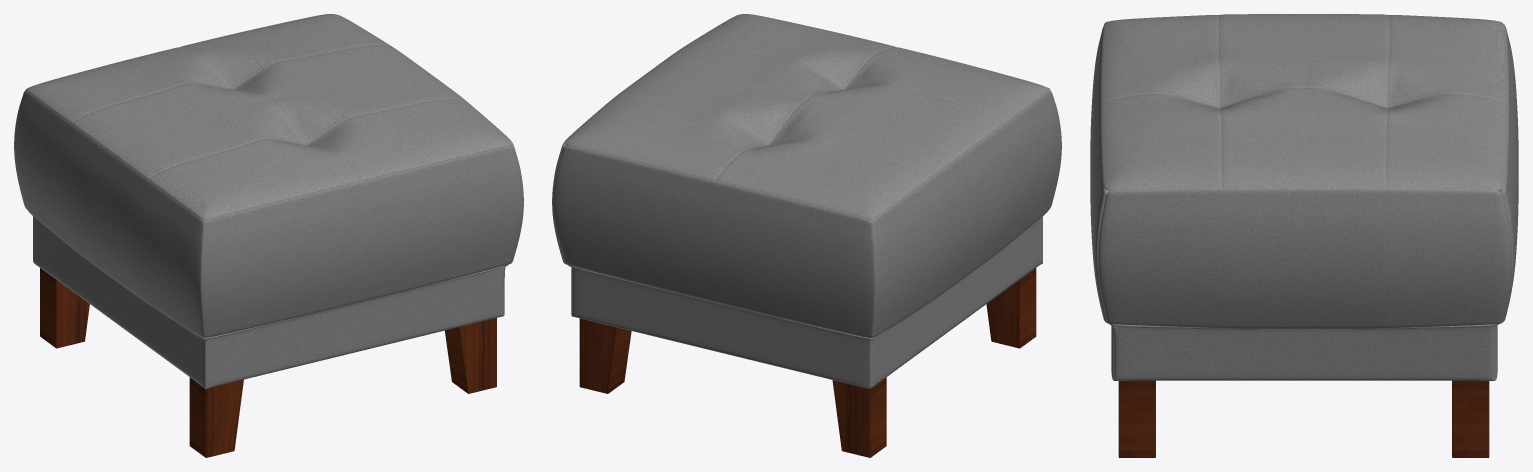
File: Tapicerk_i_krzesla_roce_puf.obj
3 renders of one model, left to right at view 1: azimuth 30°, elevation 25°; view 2: azimuth 150°, elevation 25°; view 3: azimuth 270°, elevation 25°, orthographic. The views are drawn at different scales.
Visible parts, largest first — view 1: Box004, Object001, Box002, Box006, Box005; view 2: Box004, Object001, Box005, Box007, Box002; view 3: Box004, Object001, Box007, Box006.
Boxes of the visible parts, left/top/right/bottom form: Box004: left=14, top=17, right=523, bottom=389; Object001: left=26, top=14, right=510, bottom=220; Box002: left=189, top=377, right=243, bottom=457; Box006: left=445, top=318, right=496, bottom=393; Box005: left=40, top=268, right=89, bottom=348; Box004: left=552, top=18, right=1061, bottom=388; Object001: left=565, top=14, right=1050, bottom=219; Box005: left=832, top=377, right=886, bottom=457; Box007: left=579, top=318, right=631, bottom=393; Box002: left=986, top=268, right=1036, bottom=348; Box004: left=1090, top=24, right=1518, bottom=380; Object001: left=1100, top=14, right=1506, bottom=190; Box007: left=1452, top=380, right=1489, bottom=457; Box006: left=1118, top=380, right=1155, bottom=457.
Bounding box in the file's own units: 58.75 × 43.53 × 57.76.
